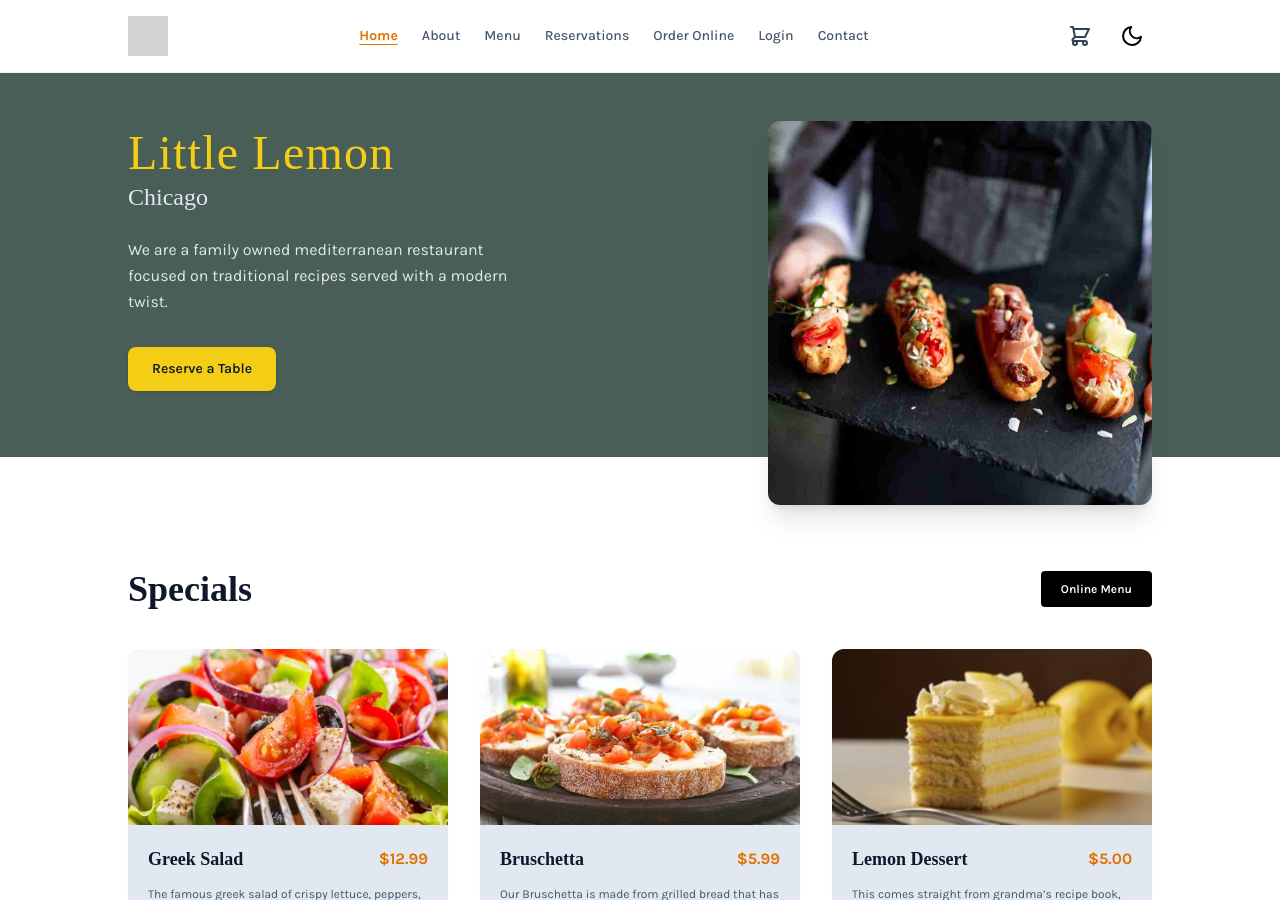
it: Little Lemon Application & Accessibility Tests › navigates to the Menu page and filters dishes using the search bar
The image size is (1280, 900).
Click the button "Menu".
click(503, 36)  # box [484,26,521,46]
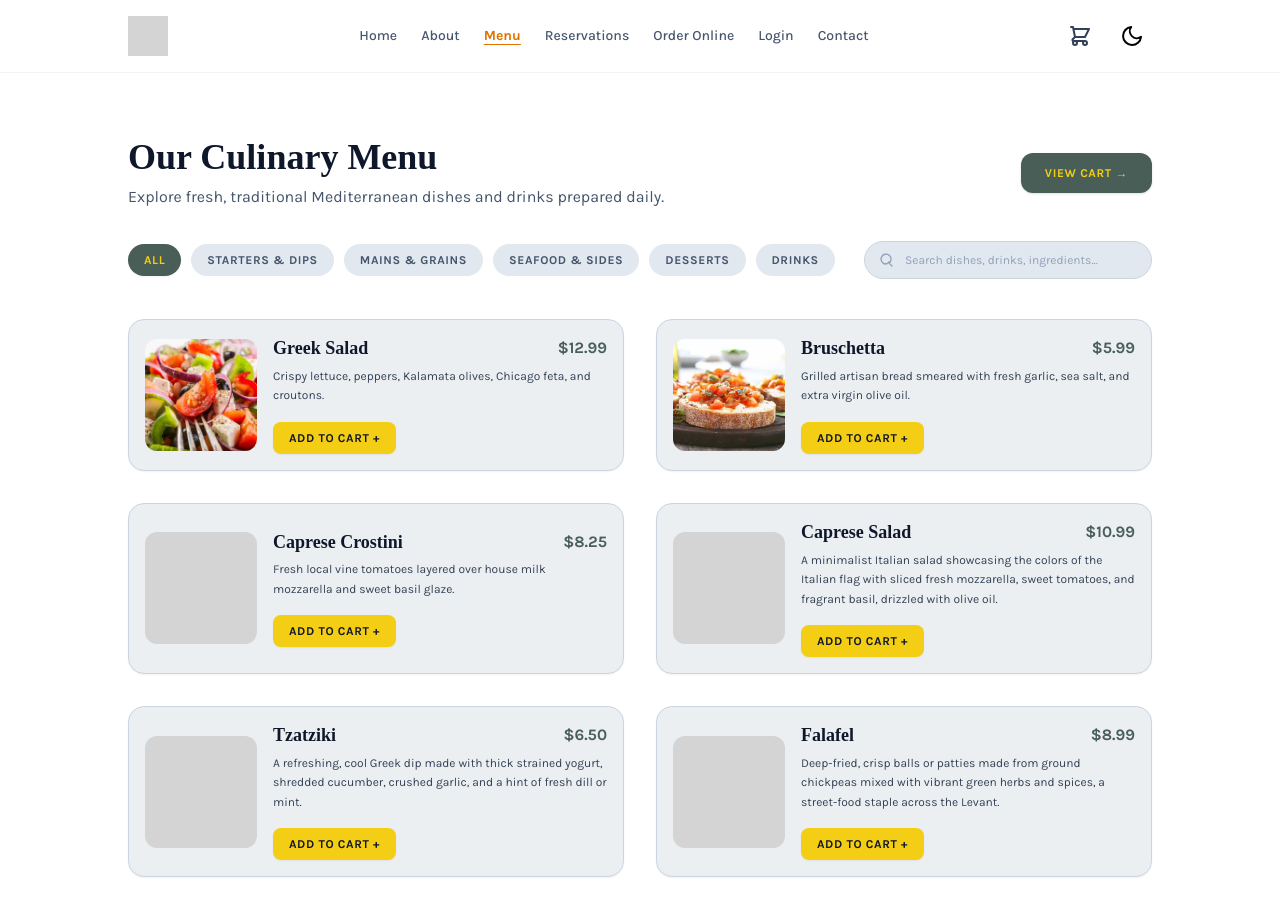
Type "Baklava" into the field with placeholder "Search dishes, drinks, ingredients...".
click(1008, 260); type("Baklava")  # box [864,241,1152,279]
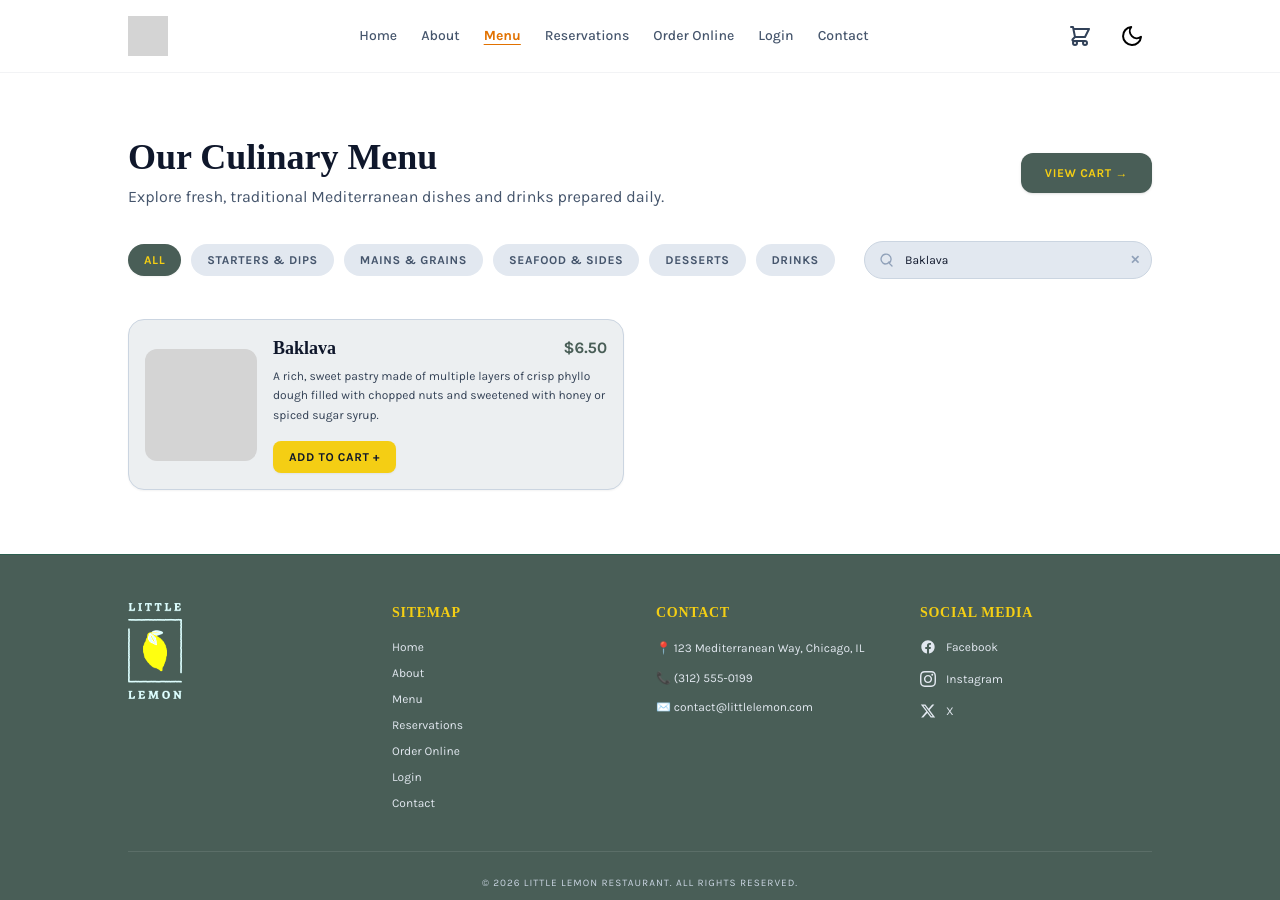
Expected: the heading "Baklava" is shown, [273,336,336,361]
Expected: the heading "Greek Salad" is gone
